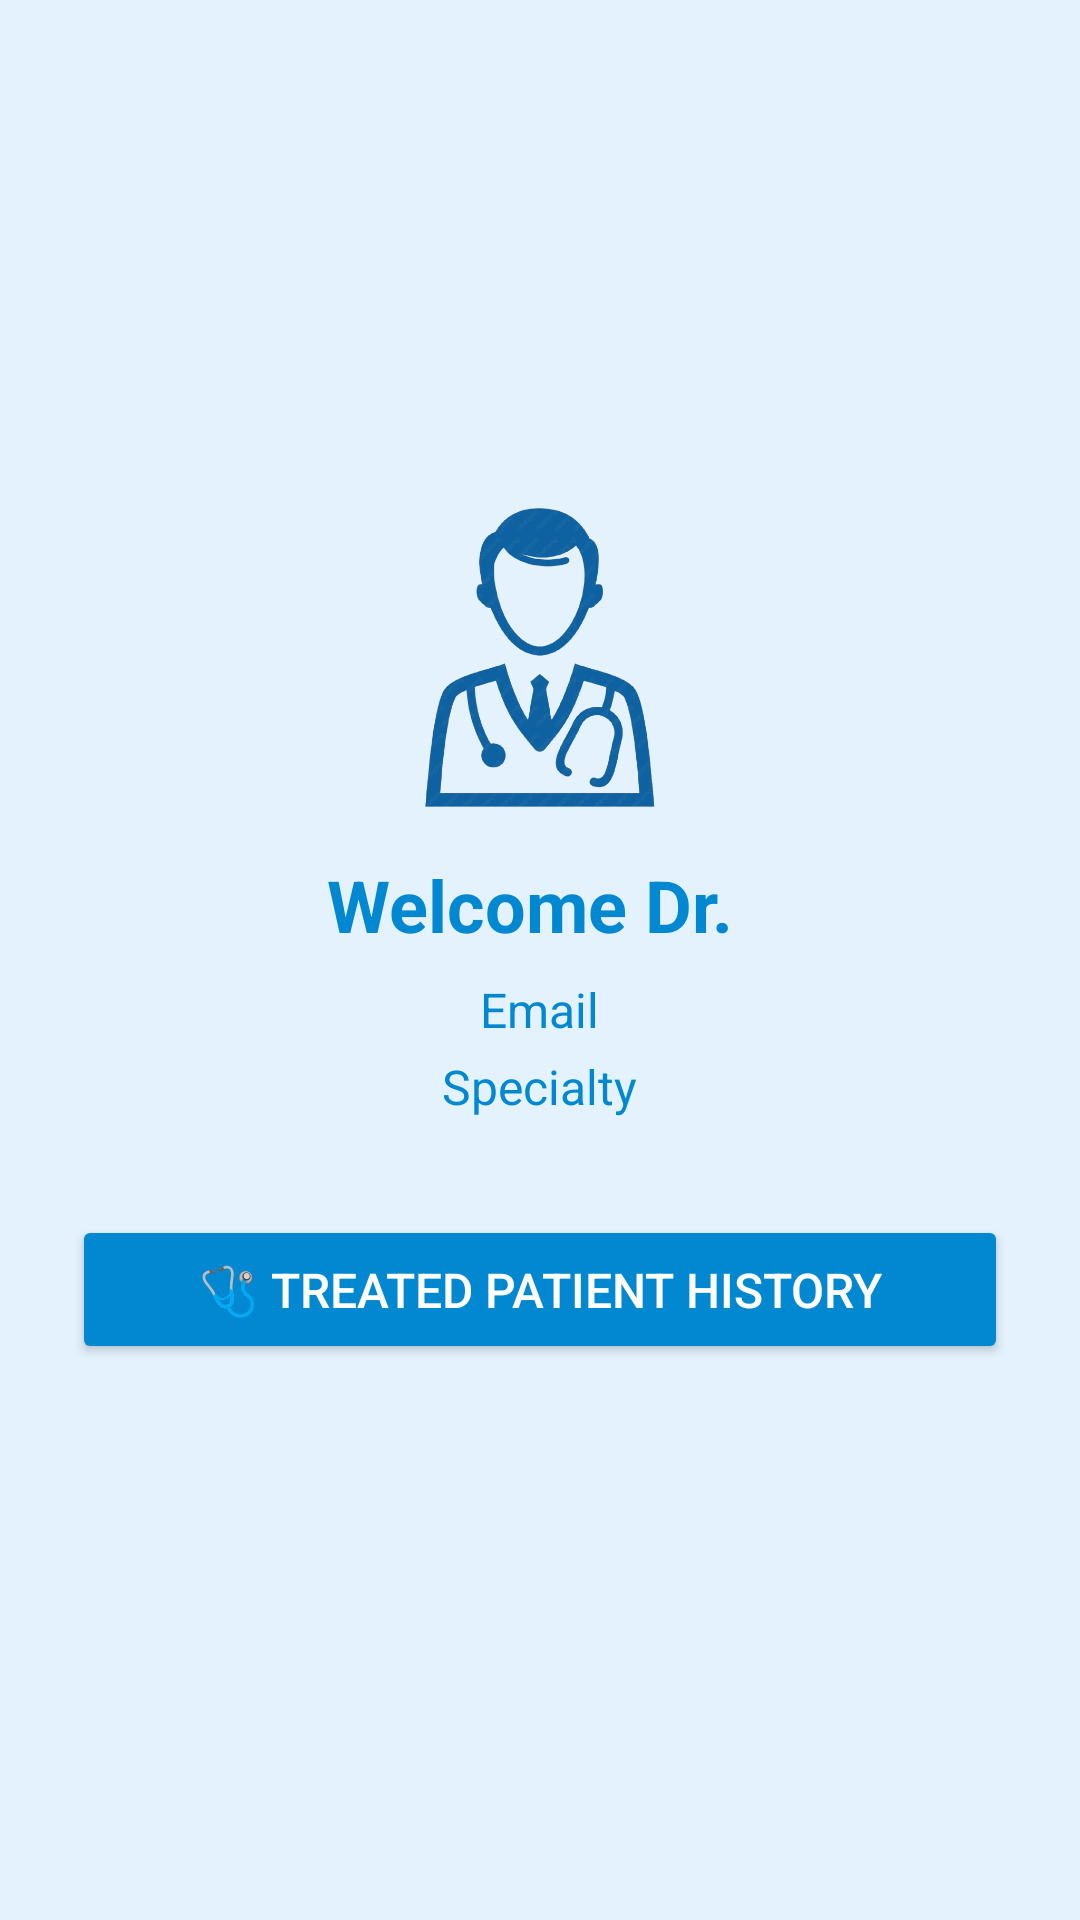

Named icons in this screenshot (1080w x 1920h) and their centers, point (x, y):
Doctor Icon: point (540, 657)
